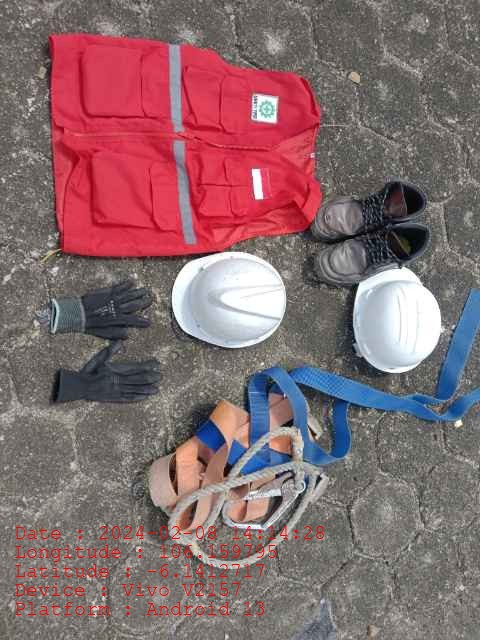HELM: (173, 252, 285, 347), (354, 267, 441, 374)
ROMPI: (46, 30, 315, 254)
SARUNG_TANGAN: (50, 341, 163, 405), (52, 281, 156, 339)
SEPATU: (316, 182, 424, 275)
